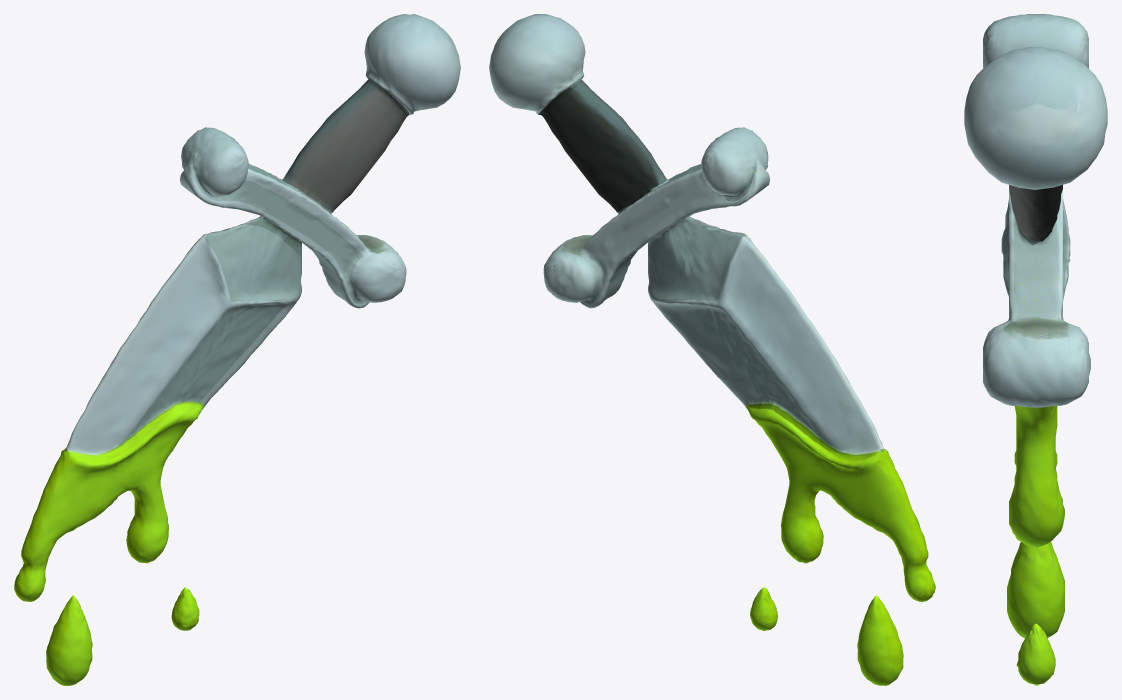
File: instakill-ld.glb
3 renders of one model, left to right at view 1: azimuth 30°, elevation 25°; view 2: azimuth 150°, elevation 25°; view 3: azimuth 270°, elevation 25°, orthographic. The views are drawn at different scales.
Bounding box in the file's own units: 1.5 × 1.91 × 0.3014.
1 material, 1 textured.
